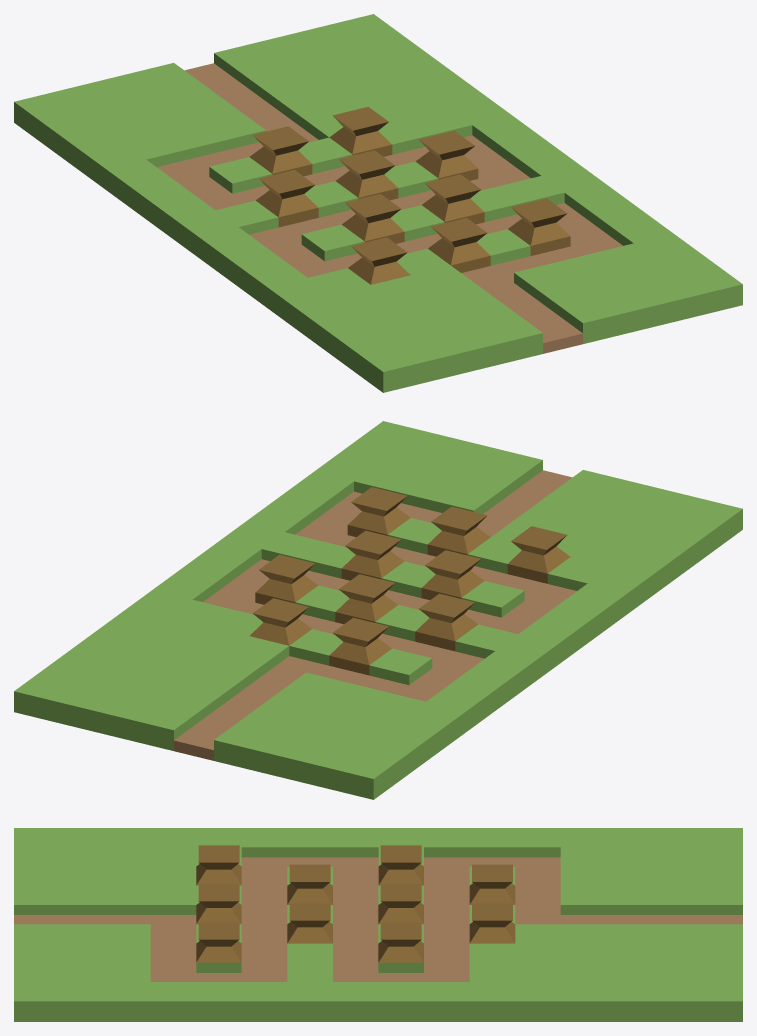
File: Level1.fbx
3 renders of one model, top to bottom at view 1: azimuth 30°, elevation 25°; view 2: azimuth 150°, elevation 25°; view 3: azimuth 270°, elevation 25°, orthographic.
Visible parts, largest first — view 1: Floor_Tile_1; view 2: Floor_Tile_1; view 3: Floor_Tile_1.
Boxes of the visible parts, x1,y1,x2,y2 form: Floor_Tile_1: (14, 14, 742, 392); Floor_Tile_1: (14, 421, 742, 799); Floor_Tile_1: (14, 828, 742, 1021).
Size of the model in its own units: 1600 by 900 by 103.
